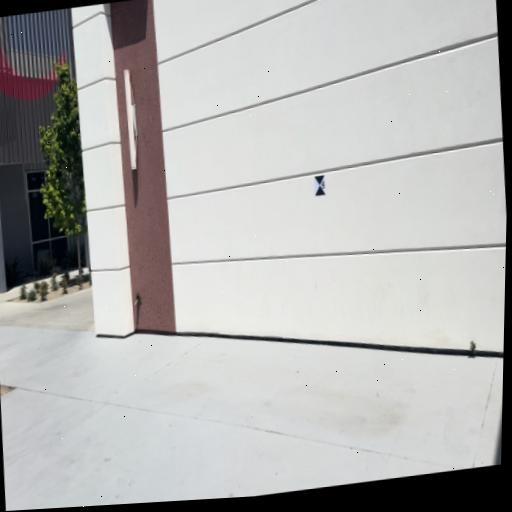target4: (314, 174, 327, 197)
